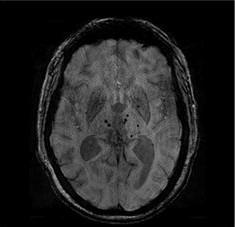Normal_Brain: (2, 3, 235, 227)
